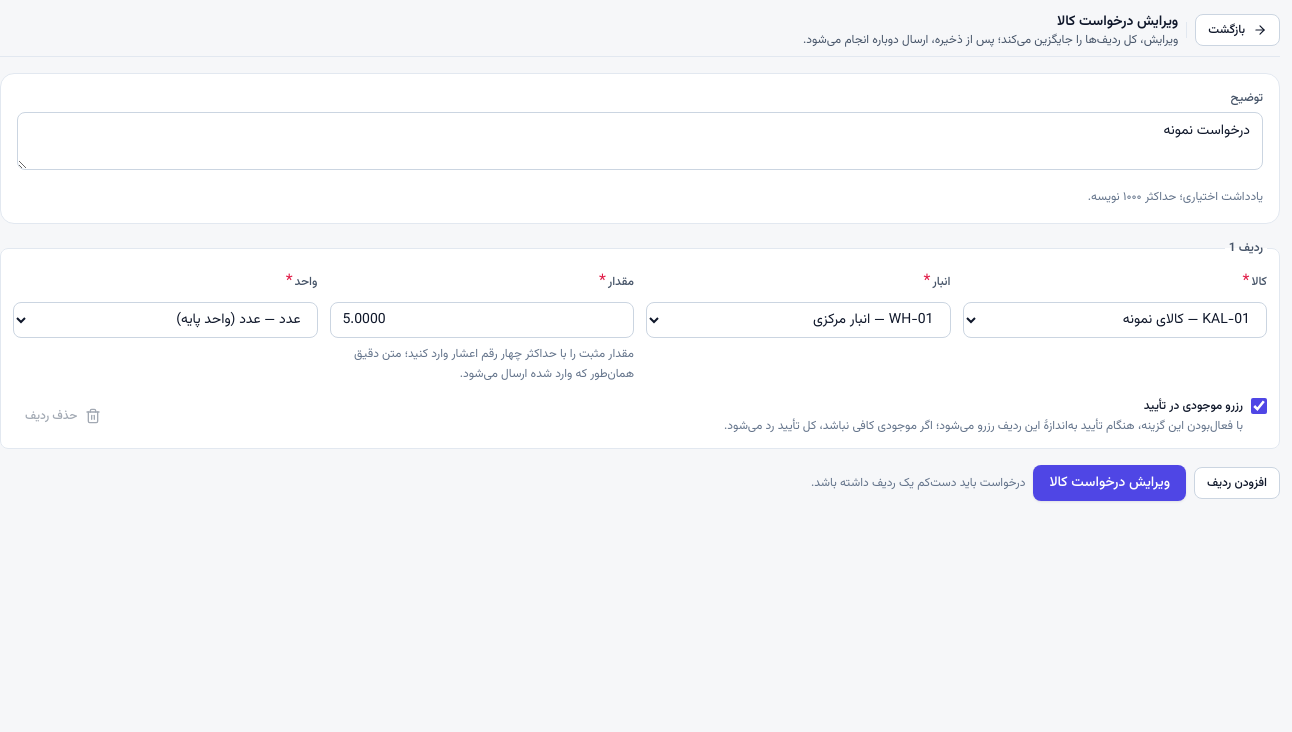
Scenario: material request edit form › shows the precise server refusal for an edit that raced the status
Check: the element with test id "material-request-line-0" is shown, box [0,240,1280,449]
Click the button "ویرایش درخواست کالا" at (1110, 483), box [1033,465,1186,501]
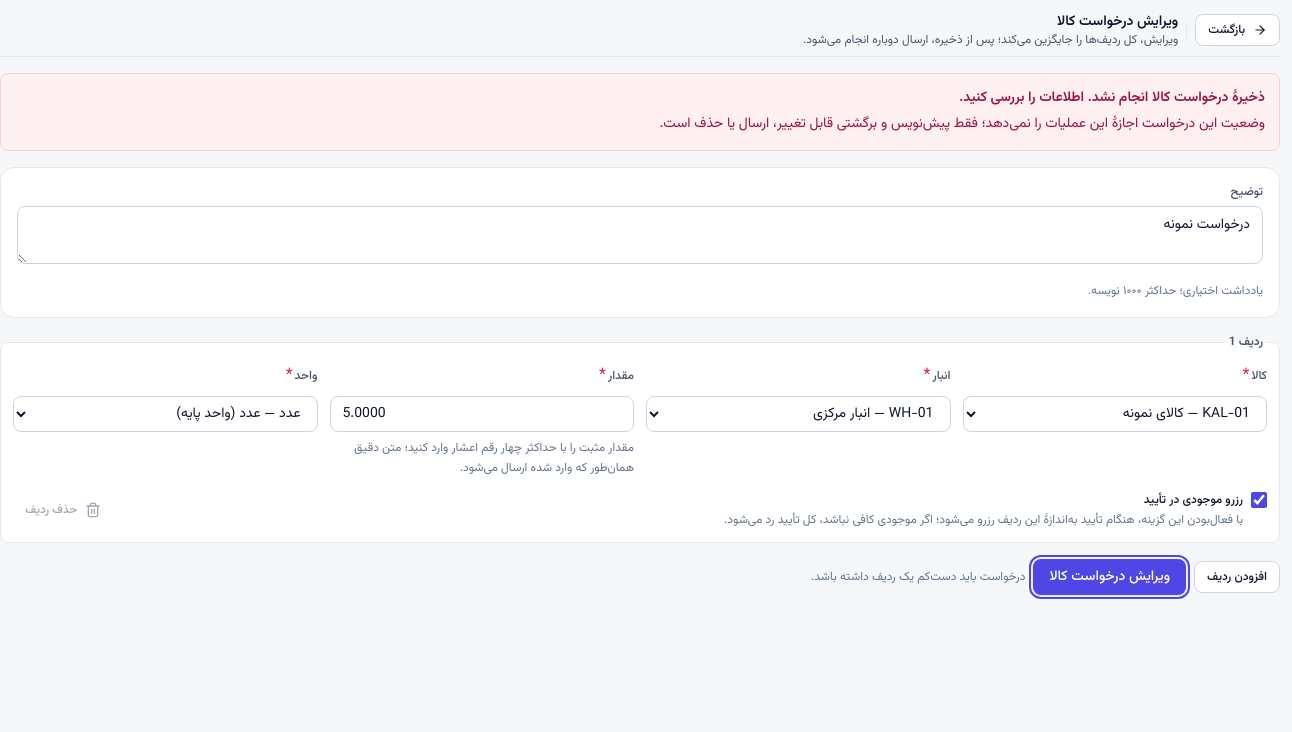
Check: the text "وضعیت این درخواست اجازهٔ این عملیات را نمی‌دهد؛ فقط پیش‌نویس و برگشتی قابل تغییر، ارسال یا حذف است." is shown, box [659,113,1265,135]
